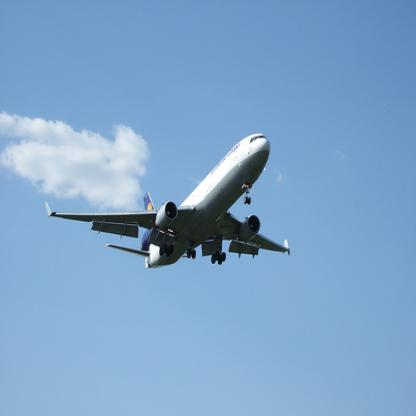aeroplane: (44, 132, 290, 267)
